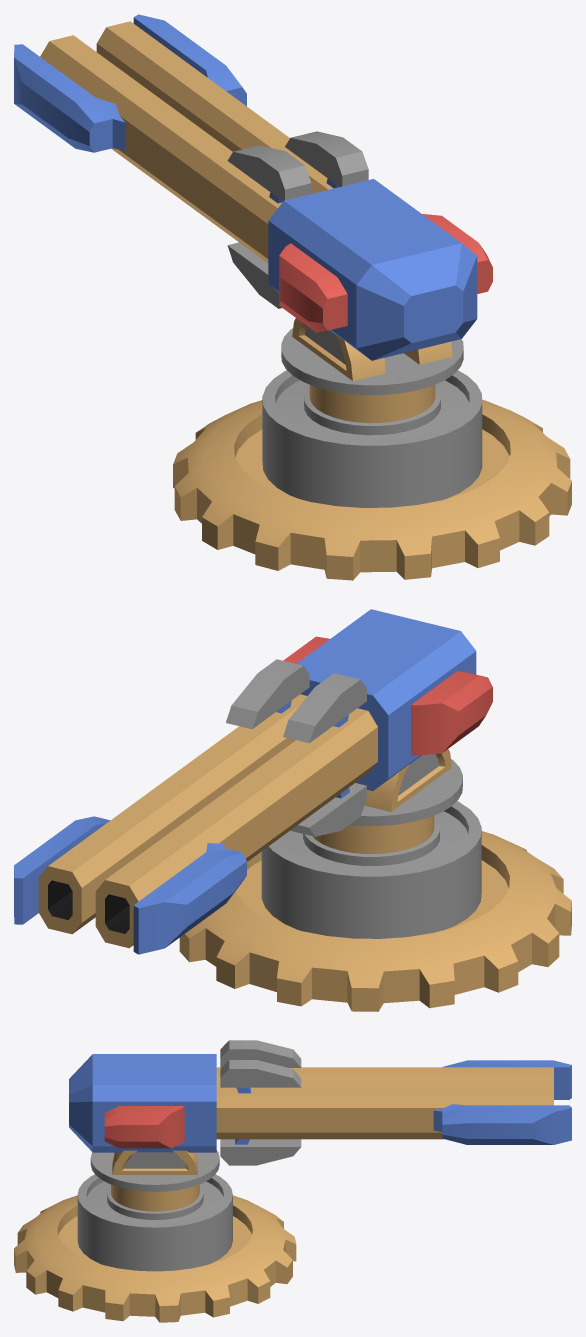
File: Canhao.fbx
3 renders of one model, top to bottom at view 1: azimuth 30°, elevation 25°; view 2: azimuth 150°, elevation 25°; view 3: azimuth 270°, elevation 25°, orthographic. The views are drawn at different scales.
Visible parts, largest first — view 1: CannonMk0; view 2: CannonMk0; view 3: CannonMk0.
Part boxes in pixels (x1,y1,x2,y2): CannonMk0: (14, 14, 571, 580); CannonMk0: (14, 609, 571, 1011); CannonMk0: (14, 1040, 571, 1322).
Bounding box in the file's own units: 100 × 81.86 × 198.
